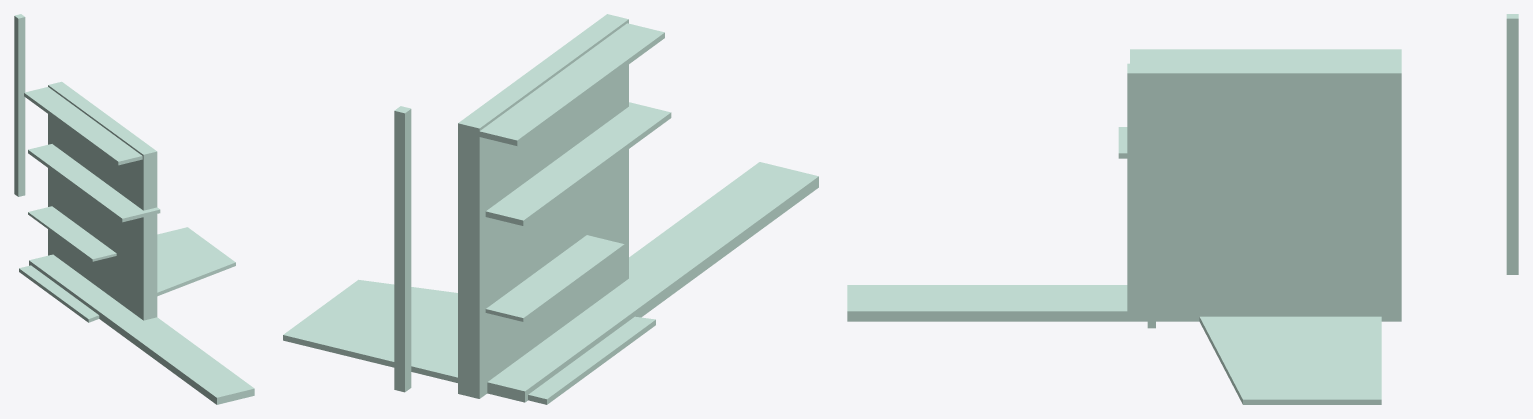
3 views of the same model, side by side, from view 1: azimuth 30°, elevation 25°; view 2: azimuth 150°, elevation 25°; view 3: azimuth 270°, elevation 25° (orthographic). The views are drawn at different scales.
Parts seen in each view (by area): view 1: Renderer Node; view 2: Renderer Node; view 3: Renderer Node.
Part boxes in pixels (left/top/right/bottom): Renderer Node: left=14, top=14, right=254, bottom=404; Renderer Node: left=283, top=14, right=818, bottom=404; Renderer Node: left=847, top=14, right=1518, bottom=404.
Bounding box in the file's own units: 0.7656 × 0.9375 × 1.84.
